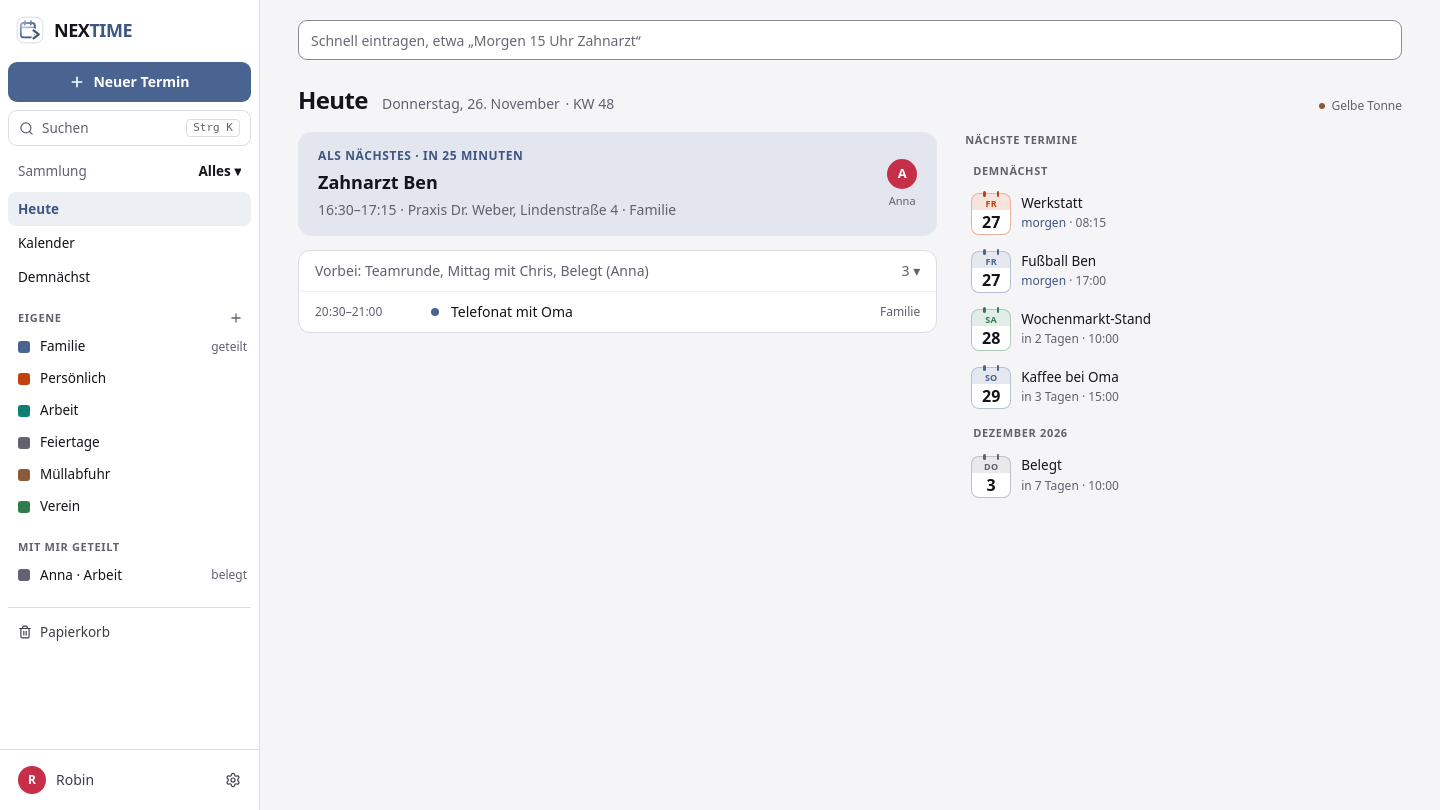
Test case: TIME-13 switching › TIME-13 AC-6 AC-1 EC-3 the menu lists "Alles" ticked and the collections, "Neue Sammlung …" and that the choice holds here only
Click the button "Sammlung Alles ▾": (130, 171) [8,154,251,188]
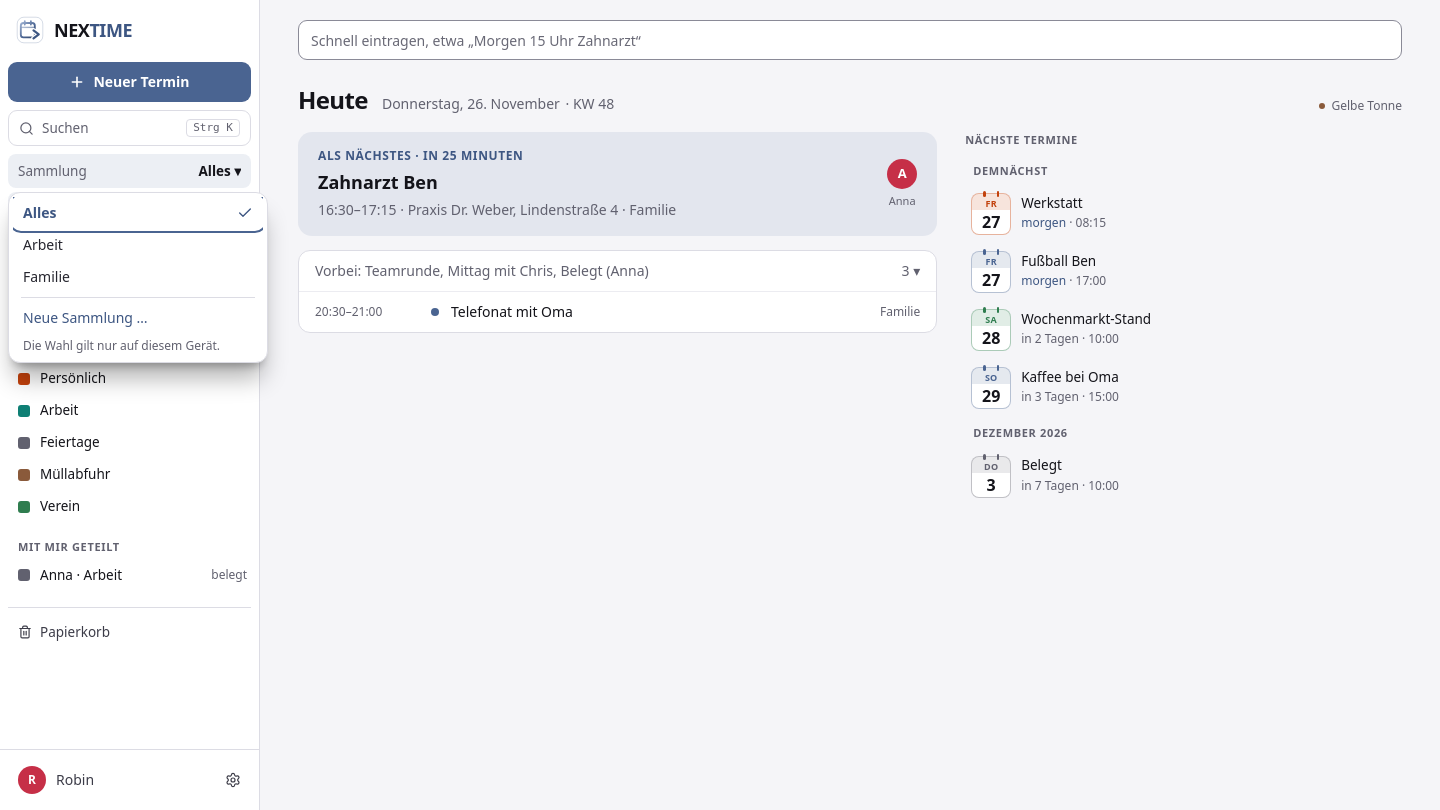
Now the text "Neue Sammlung …" is shown, box [13,302,263,334]
Now the text "Die Wahl gilt nur auf diesem Gerät." is shown, box [23,337,220,354]
